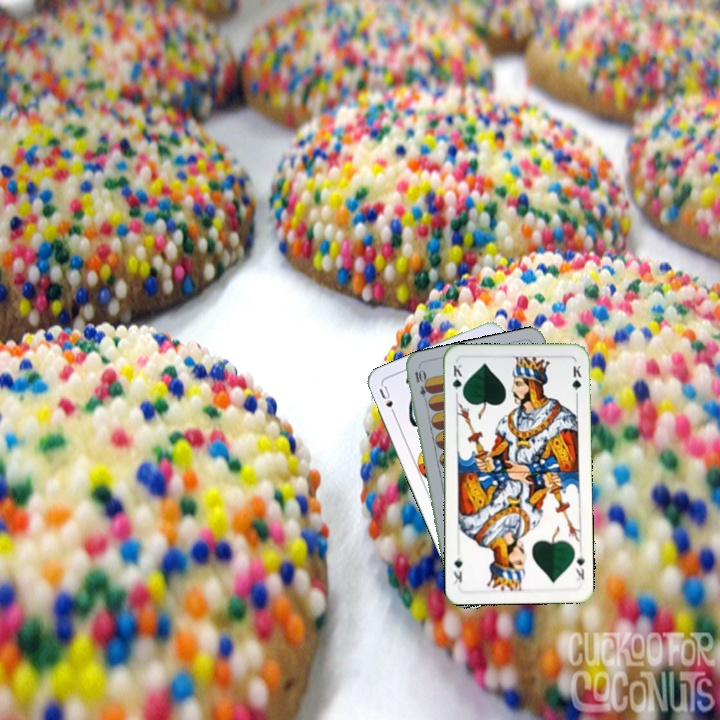E10: (410, 366, 431, 406)
GK: (448, 360, 465, 400), (571, 551, 587, 583)
SU: (375, 382, 399, 420)
